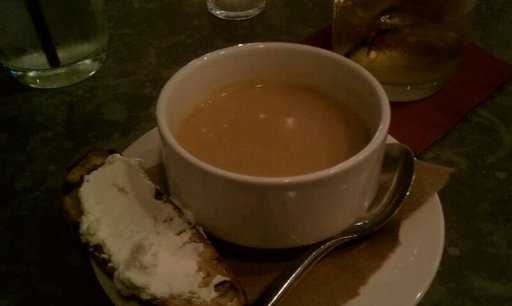soup: (160, 54, 378, 183)
